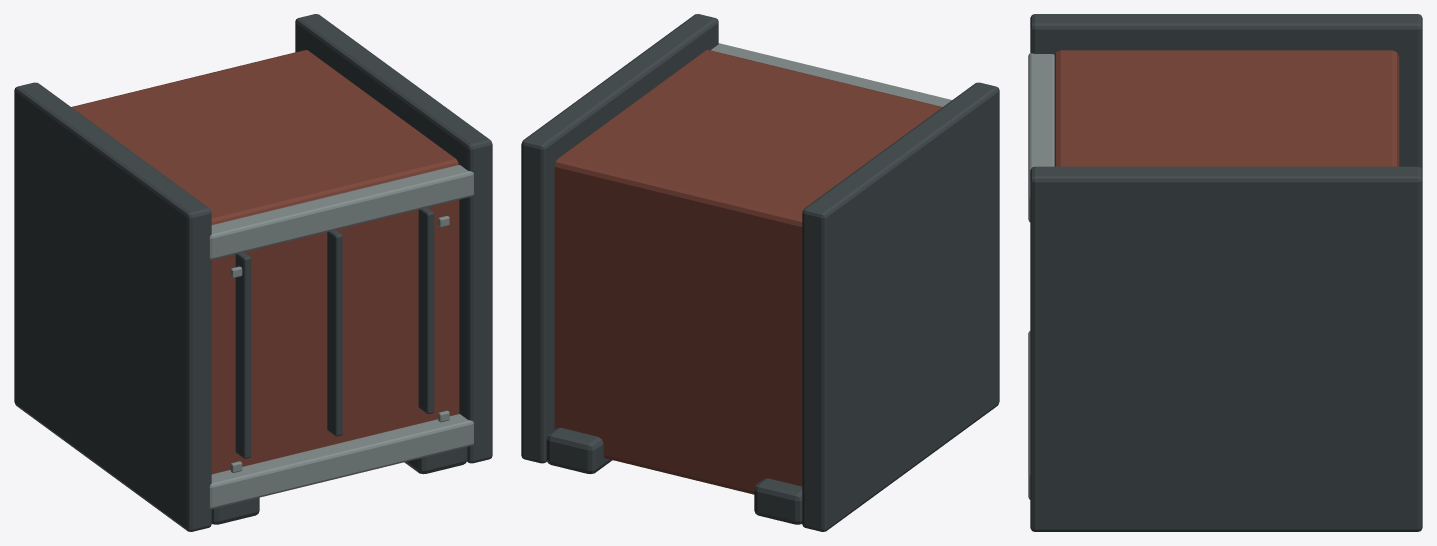
The model's file is barricade.glb.
3 renders of one model, left to right at view 1: azimuth 30°, elevation 25°; view 2: azimuth 150°, elevation 25°; view 3: azimuth 270°, elevation 25°, orthographic. The views are drawn at different scales.
Visible parts, largest first — view 1: Cover solid, Edge rail, Edge rail.001, Reinforced cross rail.001, Reinforced cross rail, Front armour rib.002, Front armour rib, Front armour rib.001, Skid foot.001, Skid foot; view 2: Cover solid, Edge rail, Edge rail.001, Reinforced cross rail.001, Skid foot.001, Skid foot; view 3: Edge rail.001, Cover solid, Edge rail, Reinforced cross rail.001, Reinforced cross rail.
Boxes of the visible parts, x1,y1,x2,y2 form: Cover solid: [71, 50, 459, 474]; Edge rail: [14, 82, 211, 531]; Edge rail.001: [295, 14, 492, 463]; Reinforced cross rail.001: [209, 165, 473, 259]; Reinforced cross rail: [209, 414, 473, 509]; Front armour rib.002: [418, 207, 434, 414]; Front armour rib: [235, 252, 251, 458]; Front armour rib.001: [327, 230, 342, 436]; Skid foot.001: [404, 447, 467, 474]; Skid foot: [211, 497, 259, 524]; Cover solid: [554, 50, 942, 494]; Edge rail: [802, 82, 999, 531]; Edge rail.001: [521, 14, 718, 463]; Reinforced cross rail.001: [711, 43, 951, 106]; Skid foot.001: [546, 427, 612, 474]; Skid foot: [754, 478, 802, 524]; Edge rail.001: [1030, 166, 1422, 531]; Cover solid: [1054, 50, 1399, 166]; Edge rail: [1030, 14, 1422, 169]; Reinforced cross rail.001: [1028, 53, 1054, 221]; Reinforced cross rail: [1028, 331, 1030, 499].
Bounding box in the file's own units: 1 × 1 × 1.
